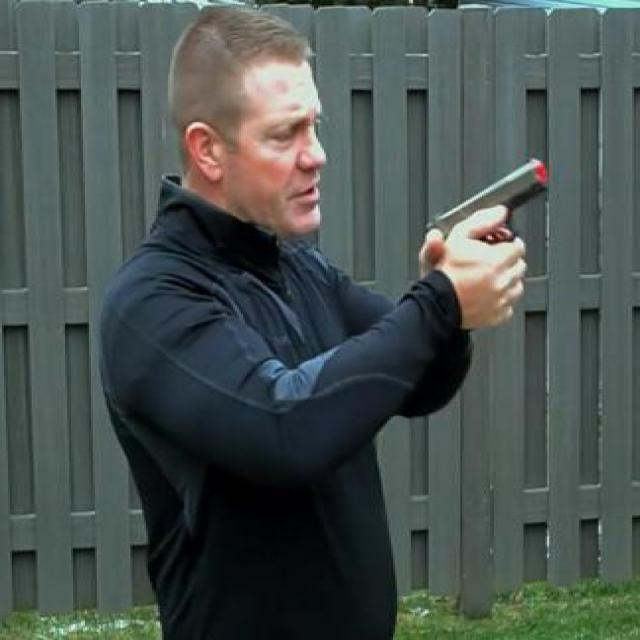Gun: (413, 150, 561, 328)
